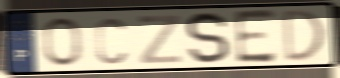C: (93, 15, 129, 66)
D: (281, 7, 327, 65)
E: (232, 7, 279, 67)
O: (40, 16, 85, 68)
S: (183, 10, 232, 67)
Z: (137, 12, 183, 65)
